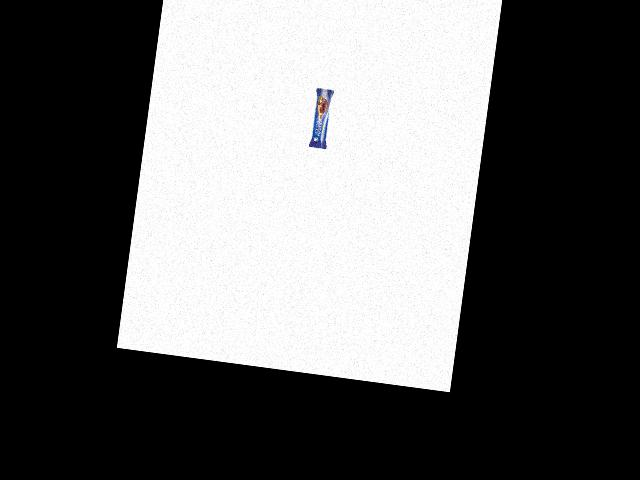chocolate: (302, 79, 336, 150)
